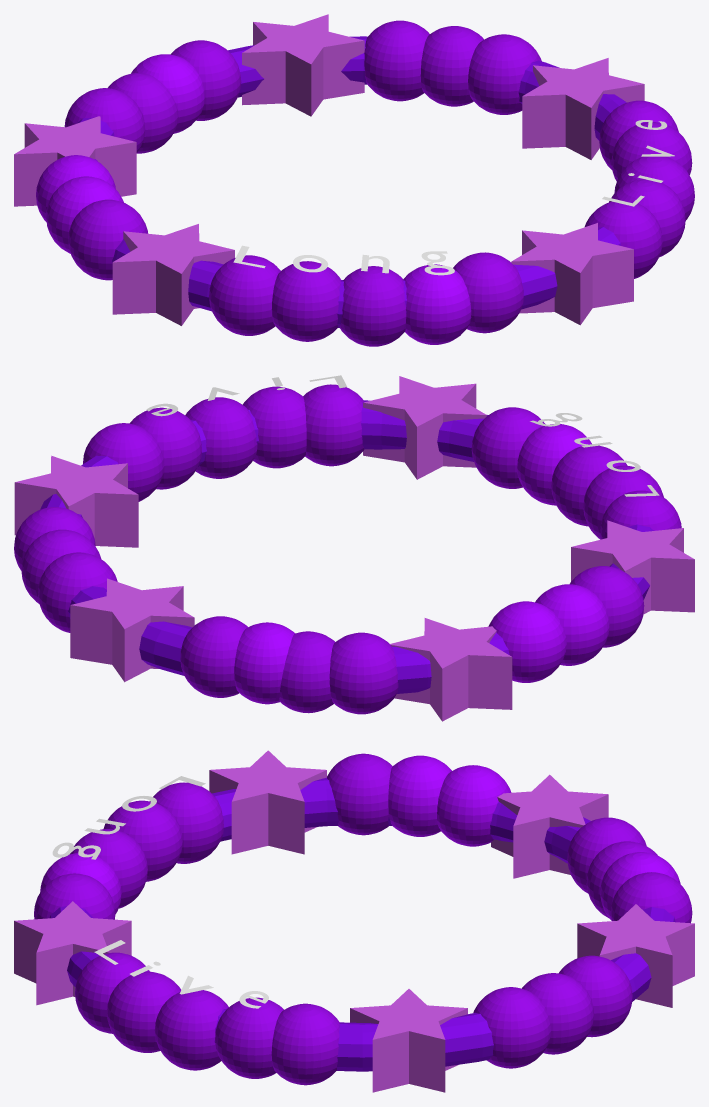
The model's file is SpeakNow_Longlive.fbx.
3 renders of one model, top to bottom at view 1: azimuth 30°, elevation 25°; view 2: azimuth 150°, elevation 25°; view 3: azimuth 270°, elevation 25°, orthographic.
Visible parts, largest first — view 1: Star.002, Star.003, Star.004, Star.001, Torus.001, Star.005, Sphere.007, Sphere.006, Sphere.008, Sphere.005, Sphere.014, Sphere.016 (+14 smaller); view 2: Torus.001, Star.005, Star.002, Star.001, Star.004, Star.003, Sphere.012, Sphere.003, Sphere.017, Sphere.019, Sphere.001, Sphere.002 (+14 smaller); view 3: Torus.001, Star.004, Star.001, Star.003, Star.002, Star.005, Sphere.018, Sphere.016, Sphere.019, Sphere.003, Sphere.013, Sphere.011 (+14 smaller).
Boxes of the visible parts, box(x1,y1,x2,y2) form: Star.002: box(242, 14, 364, 116); Star.003: box(511, 223, 633, 325); Star.004: box(112, 224, 234, 325); Star.001: box(522, 58, 644, 159); Torus.001: box(76, 36, 626, 327); Star.005: box(14, 116, 136, 206); Sphere.007: box(271, 261, 341, 341); Sphere.006: box(340, 266, 406, 346); Sphere.008: box(209, 255, 280, 335); Sphere.005: box(403, 264, 471, 344); Sphere.014: box(364, 20, 429, 101); Sphere.016: box(468, 34, 541, 114); Torus.001: box(40, 400, 653, 693); Star.005: box(390, 618, 512, 721); Star.002: box(70, 578, 194, 682); Star.001: box(14, 455, 138, 547); Star.004: box(571, 520, 694, 614); Star.003: box(363, 376, 486, 479); Sphere.012: box(329, 632, 398, 714); Sphere.003: box(488, 601, 566, 682); Sphere.017: box(303, 384, 364, 466); Sphere.019: box(185, 397, 257, 478); Sphere.001: box(180, 616, 247, 697); Sphere.002: box(242, 386, 306, 468); Torus.001: box(49, 777, 675, 1071); Star.004: box(209, 750, 326, 854); Star.001: box(350, 989, 467, 1092); Star.003: box(14, 901, 131, 1005); Star.002: box(577, 904, 694, 1007); Star.005: box(491, 774, 608, 878); Sphere.018: box(271, 1003, 339, 1085); Sphere.016: box(473, 987, 550, 1068); Sphere.019: box(154, 990, 228, 1070); Sphere.003: box(437, 765, 511, 846); Sphere.013: box(327, 753, 392, 835); Sphere.011: box(215, 997, 283, 1078).
Bounding box in the file's own units: 117 × 15.84 × 117.
